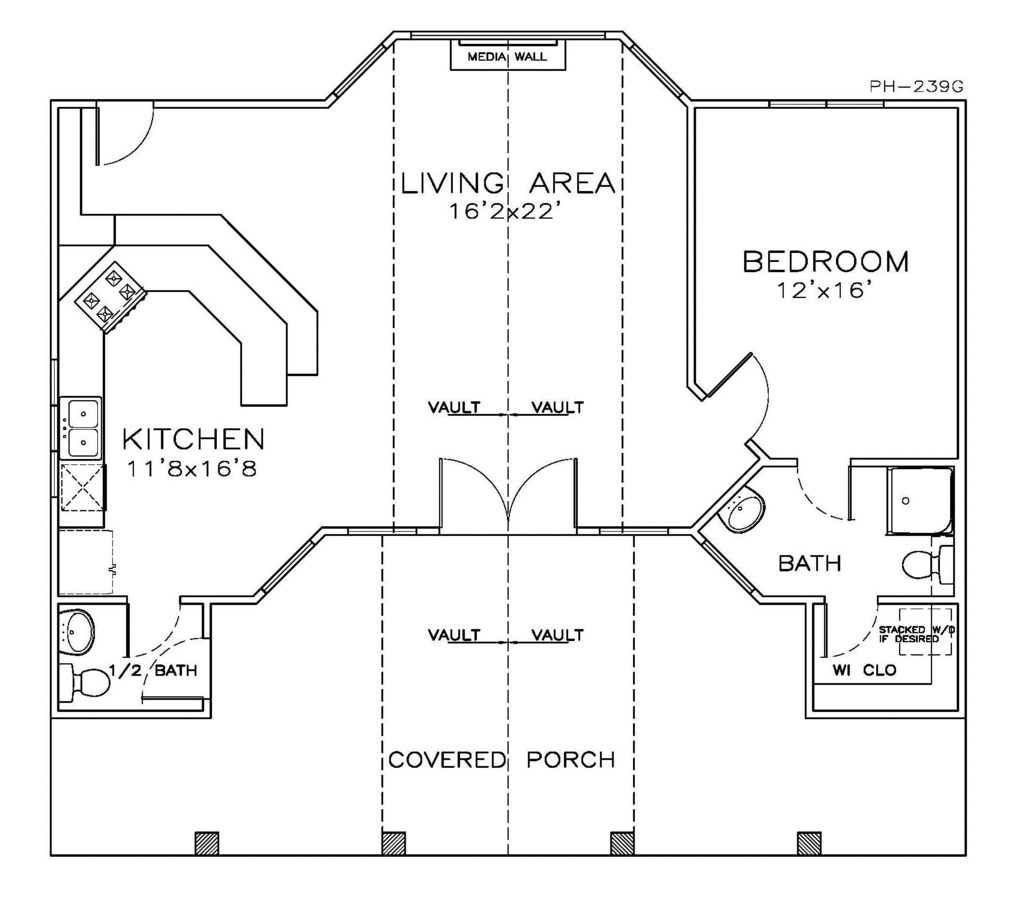door: (425, 448, 590, 535), (708, 351, 778, 437), (88, 97, 161, 173), (142, 635, 226, 697), (810, 595, 880, 658), (119, 600, 184, 658), (797, 461, 850, 526)
kitchen_bar: (57, 247, 151, 368)
large_sink: (897, 533, 957, 590), (60, 656, 117, 708)
small_sink: (700, 485, 782, 541), (54, 604, 102, 658)
twin_sink: (50, 383, 106, 459)
window: (408, 26, 602, 41), (766, 96, 888, 110)
